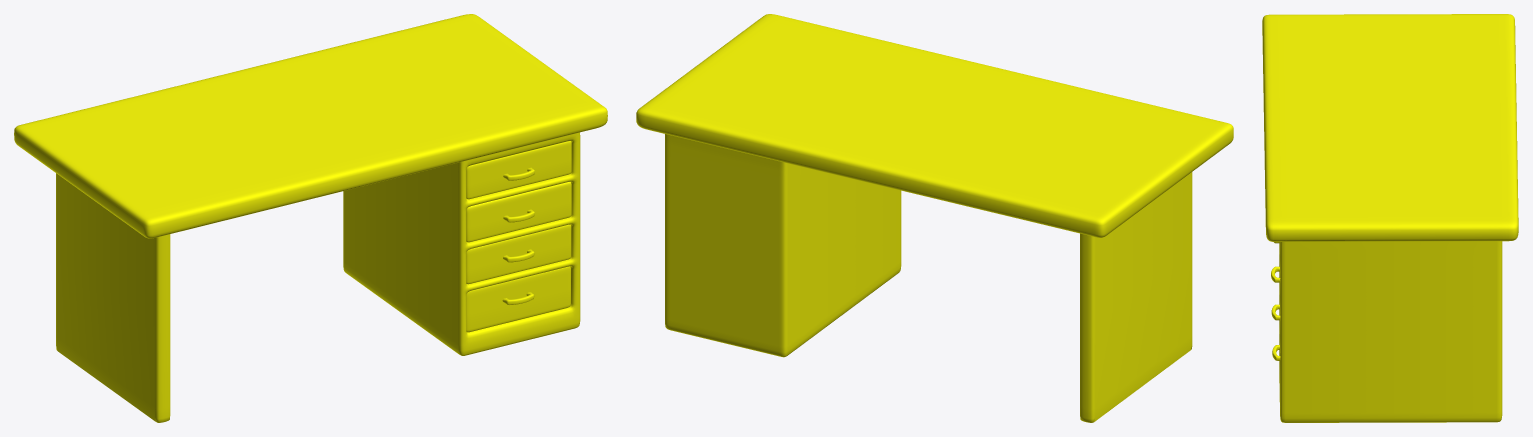
The model's file is desk.glb.
3 renders of one model, left to right at view 1: azimuth 30°, elevation 25°; view 2: azimuth 150°, elevation 25°; view 3: azimuth 270°, elevation 25°, orthographic. The views are drawn at different scales.
Parts seen in each view (by area): view 1: Desk_Body, Desk_Drawer_04, Desk_Drawer_02, Desk_Drawer_03, Desk_Drawer_01; view 2: Desk_Body; view 3: Desk_Body.
Boxes of the visible parts, bbox=[...] form: Desk_Body: bbox=[14, 14, 607, 422]; Desk_Drawer_04: bbox=[466, 266, 570, 332]; Desk_Drawer_02: bbox=[466, 181, 571, 242]; Desk_Drawer_03: bbox=[466, 224, 571, 284]; Desk_Drawer_01: bbox=[466, 141, 571, 199]; Desk_Body: bbox=[636, 14, 1233, 422]; Desk_Body: bbox=[1262, 14, 1518, 422].
Size of the model in its own units: 1.18 by 0.5359 by 0.5987.
1 material, 1 textured.
